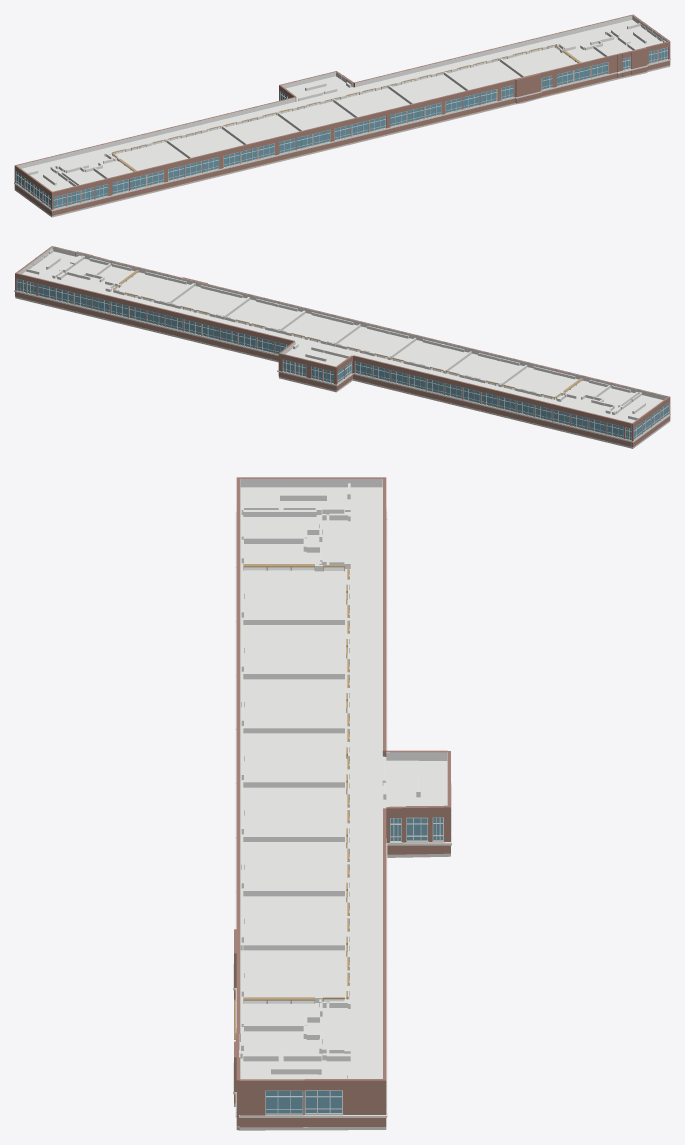
Rendered from main_5F.glb.
3 views of the same model, one above another, from view 1: azimuth 30°, elevation 25°; view 2: azimuth 150°, elevation 25°; view 3: azimuth 270°, elevation 25° (orthographic). The views are drawn at different scales.
Visible parts, largest first — view 1: main_5F__ceil, main_5F__brick, main_5F__wallIn, main_5F__glass, main_5F__frameW, main_5F__white, main_5F__corrFloor, main_5F__woodFrame, main_5F__glassIn, main_5F__rail, main_5F__woodF; view 2: main_5F__ceil, main_5F__brick, main_5F__glass, main_5F__wallIn, main_5F__frameW, main_5F__corrFloor, main_5F__white, main_5F__woodFrame, main_5F__rail, main_5F__glassIn; view 3: main_5F__ceil, main_5F__wallIn, main_5F__brick, main_5F__white, main_5F__glass, main_5F__woodFrame, main_5F__frameW.
Boxes of the visible parts, left/top/right/bottom form: main_5F__ceil: left=22, top=20, right=662, bottom=191; main_5F__brick: left=14, top=14, right=670, bottom=215; main_5F__wallIn: left=15, top=15, right=668, bottom=187; main_5F__glass: left=16, top=47, right=667, bottom=208; main_5F__frameW: left=15, top=47, right=667, bottom=208; main_5F__white: left=14, top=58, right=670, bottom=211; main_5F__corrFloor: left=14, top=65, right=670, bottom=217; main_5F__woodFrame: left=111, top=45, right=581, bottom=171; main_5F__glassIn: left=112, top=45, right=577, bottom=171; main_5F__rail: left=16, top=56, right=667, bottom=206; main_5F__woodF: left=138, top=87, right=581, bottom=194; main_5F__ceil: left=22, top=251, right=662, bottom=422; main_5F__brick: left=15, top=246, right=670, bottom=447; main_5F__glass: left=17, top=279, right=668, bottom=439; main_5F__wallIn: left=16, top=247, right=667, bottom=446; main_5F__frameW: left=17, top=278, right=669, bottom=440; main_5F__corrFloor: left=15, top=296, right=670, bottom=448; main_5F__white: left=14, top=290, right=670, bottom=442; main_5F__woodFrame: left=113, top=270, right=582, bottom=399; main_5F__rail: left=17, top=288, right=668, bottom=437; main_5F__glassIn: left=114, top=272, right=581, bottom=399; main_5F__ceil: left=239, top=487, right=447, bottom=1079; main_5F__wallIn: left=239, top=479, right=447, bottom=1079; main_5F__brick: left=234, top=477, right=450, bottom=1127; main_5F__white: left=233, top=511, right=451, bottom=1117; main_5F__glass: left=266, top=817, right=442, bottom=1113; main_5F__woodFrame: left=243, top=564, right=349, bottom=1003; main_5F__frameW: left=265, top=817, right=443, bottom=1114.
Bounding box in the file's own units: 100 × 3.85 × 15.4.
